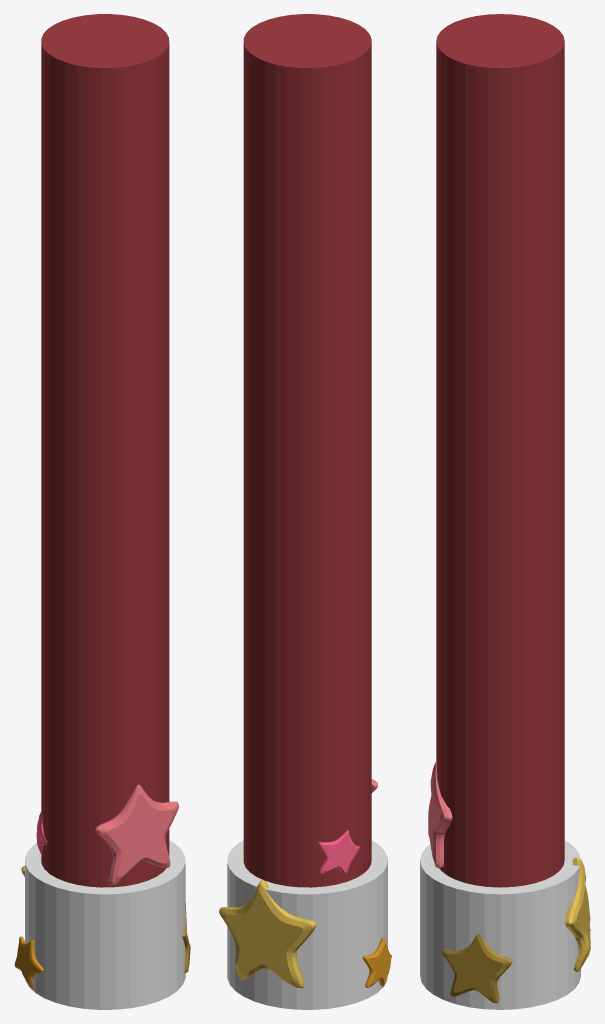
Rendered from temple-pillar.glb.
3 renders of one model, left to right at view 1: azimuth 30°, elevation 25°; view 2: azimuth 150°, elevation 25°; view 3: azimuth 270°, elevation 25°, orthographic.
Parts seen in each view (by area): view 1: Cylinder, Cylinder.001, BézierCurve, BézierCurve.003; view 2: Cylinder, Cylinder.001, BézierCurve.002, BézierCurve.004, BézierCurve.003; view 3: Cylinder, Cylinder.001, BézierCurve.001, BézierCurve.002, BézierCurve.
Boxes of the visible parts, <box> form: Cylinder: <box>41,14,169,887</box>; Cylinder.001: <box>25,840,185,1009</box>; BézierCurve: <box>95,784,179,885</box>; BézierCurve.003: <box>14,936,43,987</box>; Cylinder: <box>243,14,371,887</box>; Cylinder.001: <box>227,840,387,1009</box>; BézierCurve.002: <box>219,880,316,988</box>; BézierCurve.004: <box>318,830,359,874</box>; BézierCurve.003: <box>362,937,391,987</box>; Cylinder: <box>436,14,564,887</box>; Cylinder.001: <box>420,840,580,1009</box>; BézierCurve.001: <box>442,934,512,1003</box>; BézierCurve.002: <box>565,857,590,971</box>; BézierCurve: <box>428,762,452,868</box>.
Bounding box in the file's own units: 1.41 × 8.03 × 1.33.
